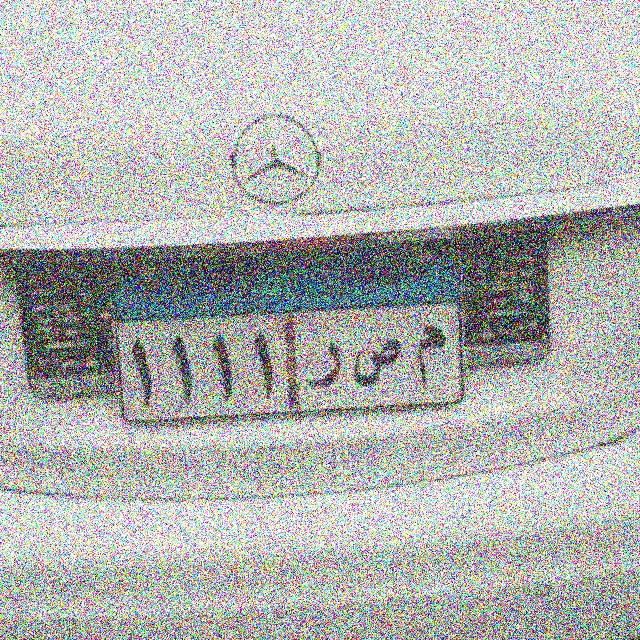License Plate: (101, 231, 473, 428)
